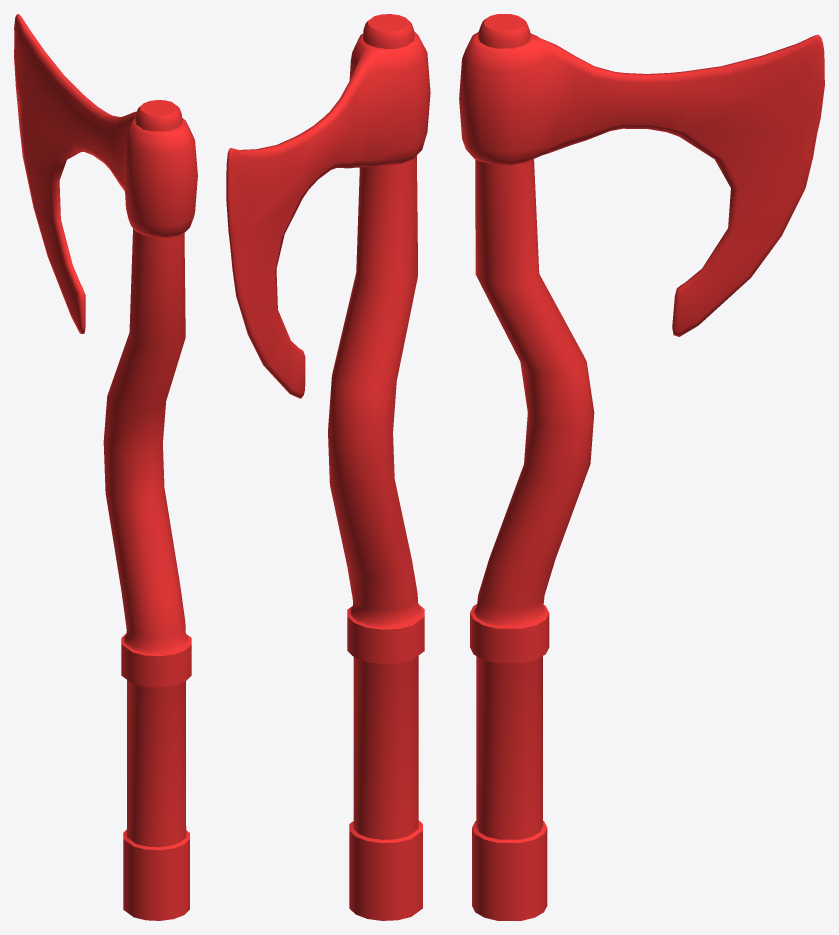
The model's file is AxeLowPoly.fbx.
The picture shows the model from 3 angles, left to right: view 1: azimuth 30°, elevation 25°; view 2: azimuth 150°, elevation 25°; view 3: azimuth 270°, elevation 25°; orthographic projection. The views are drawn at different scales.
Parts seen in each view (by area): view 1: axe001; view 2: axe001; view 3: axe001.
Boxes of the visible parts, x1,y1,x2,y2 form: axe001: (14, 14, 197, 920); axe001: (226, 14, 430, 920); axe001: (459, 14, 824, 920).
Bounding box in the file's own units: 8.14 × 97.78 × 36.7.
